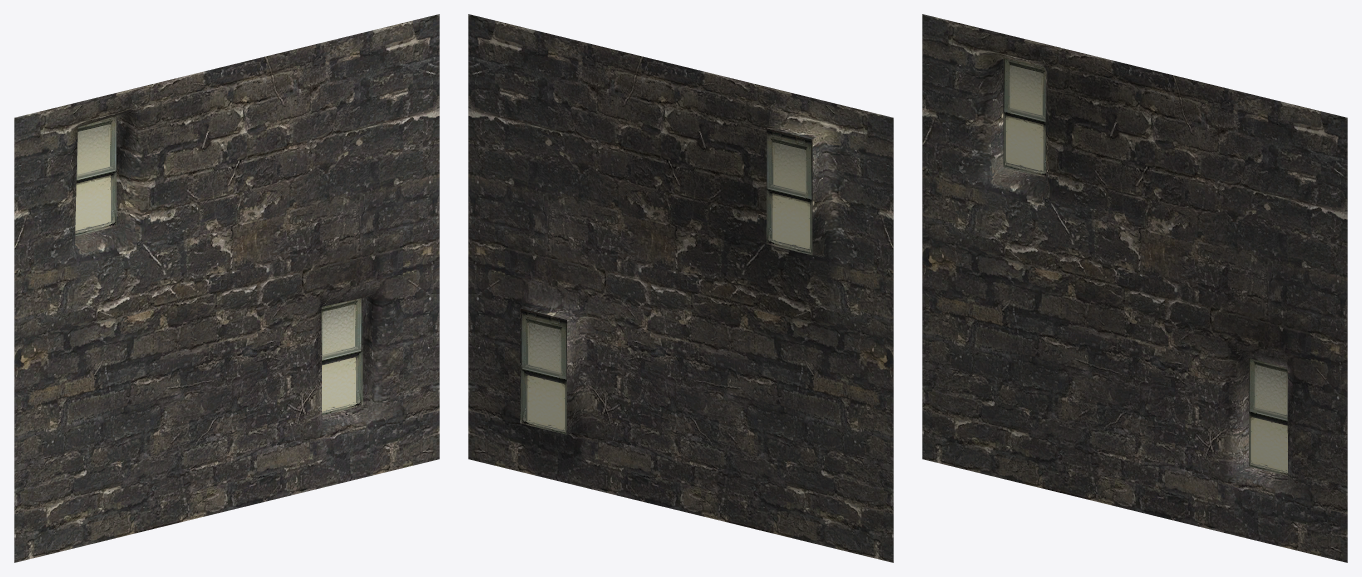
The model's file is factory_facade_03_lit.DAE.
The picture shows the model from 3 angles, left to right: view 1: azimuth 30°, elevation 25°; view 2: azimuth 150°, elevation 25°; view 3: azimuth 330°, elevation 25°; orthographic projection.
Visible parts, largest first — view 1: Box122, Object099; view 2: Box122, Object099; view 3: Box122, Object099.
Boxes of the visible parts, <box> form: Box122: <box>14,14,439,562</box>; Object099: <box>75,116,363,415</box>; Box122: <box>468,14,893,562</box>; Object099: <box>520,128,812,434</box>; Box122: <box>922,14,1347,562</box>; Object099: <box>1003,58,1287,475</box>.
Bounding box in the file's own units: 4 × 4 × 0.2.
